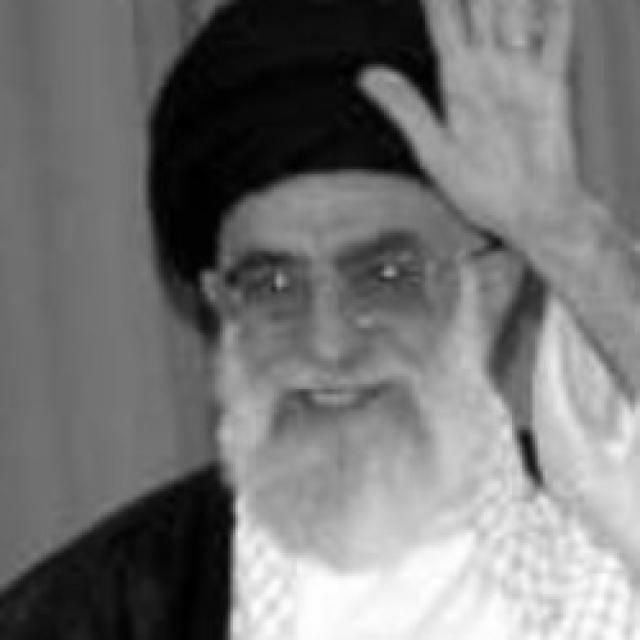real: (218, 174, 468, 456), (222, 249, 450, 333)
